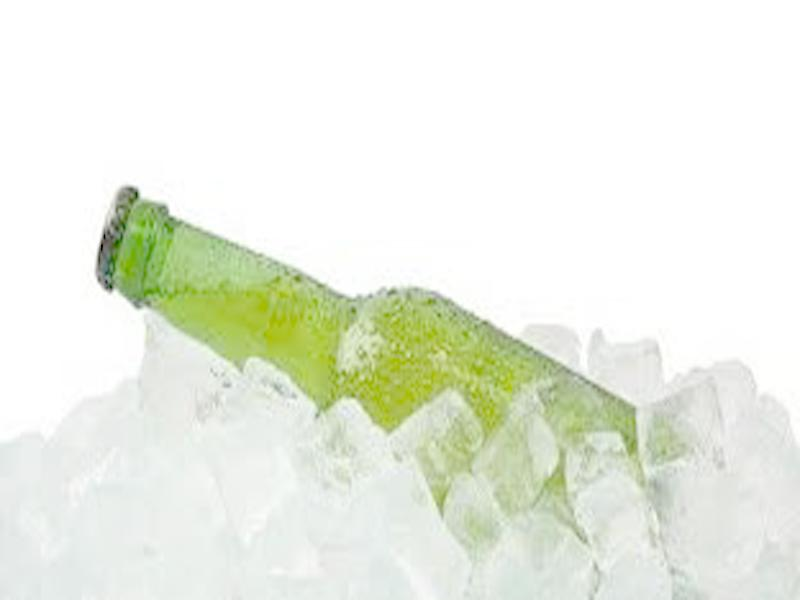Beer: (89, 190, 678, 484)
